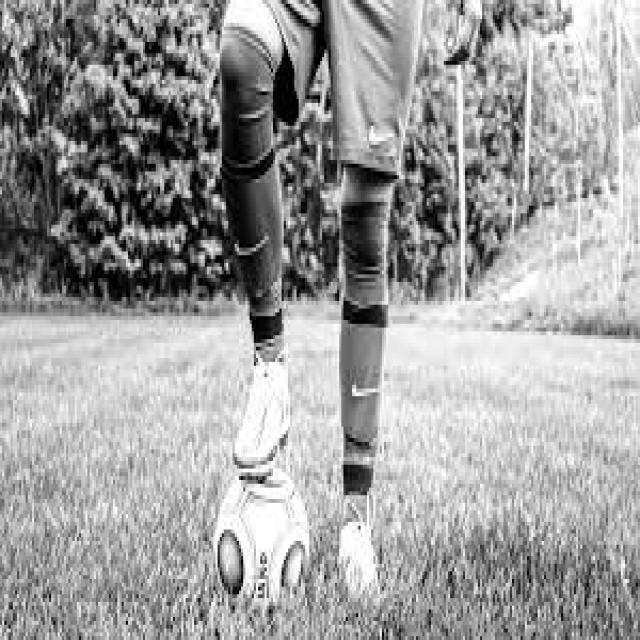Nike: (346, 374, 384, 408)
